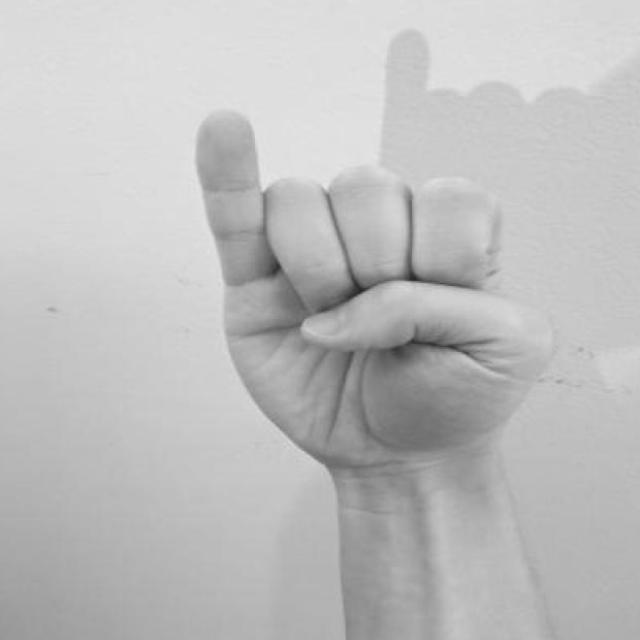I: (187, 101, 571, 498)
